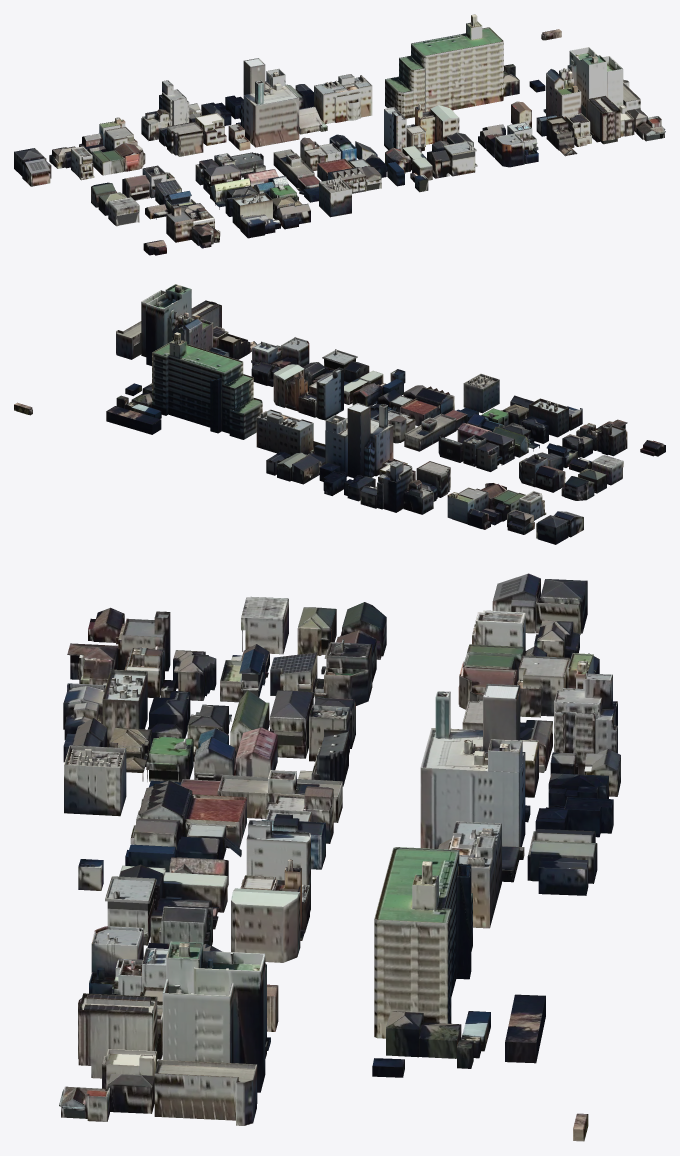
Rendered from lod3-station-8-0-packed.glb.
The picture shows the model from 3 angles, top to bottom: view 1: azimuth 30°, elevation 25°; view 2: azimuth 150°, elevation 25°; view 3: azimuth 270°, elevation 25°; orthographic projection. The views are drawn at different scales.
Bounding box in the file's own units: 277 × 38.57 × 123.
Materials: 16 (15 with a texture image).
